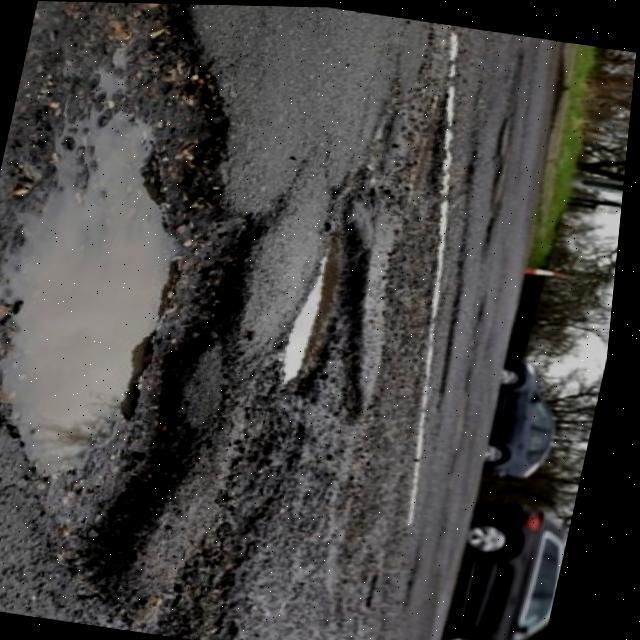pothole: (0, 0, 309, 607), (276, 202, 416, 418)
